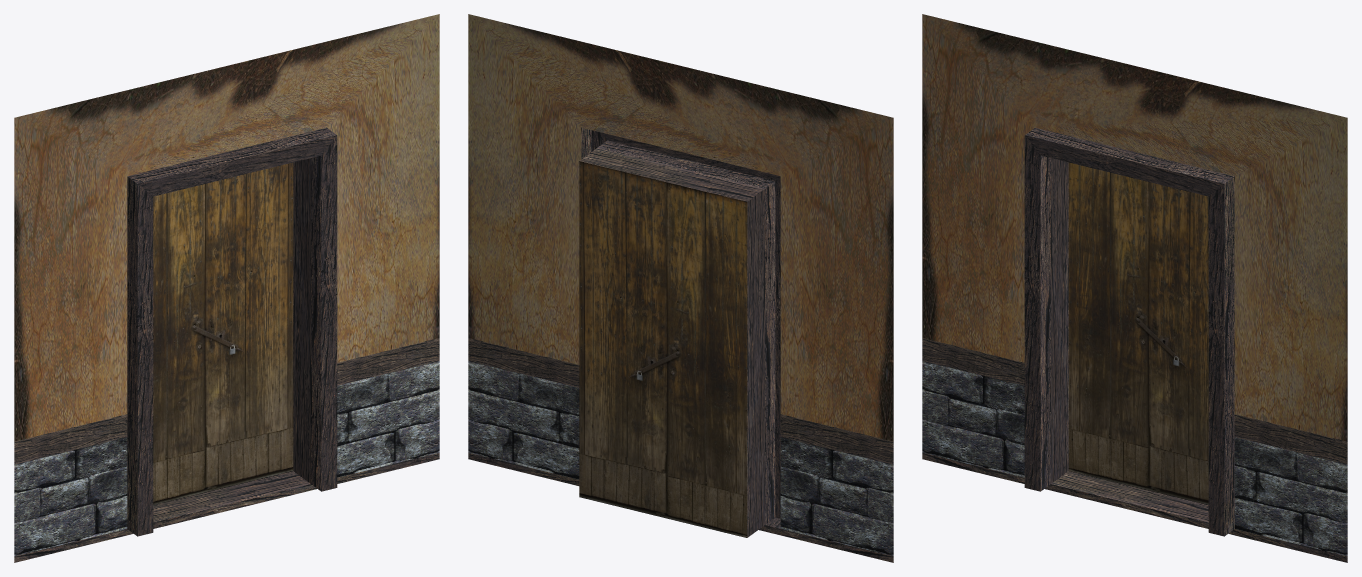
File: House 1 Wall Door.FBX
3 renders of one model, left to right at view 1: azimuth 30°, elevation 25°; view 2: azimuth 150°, elevation 25°; view 3: azimuth 330°, elevation 25°, orthographic.
Visible parts, largest first — view 1: Plane17; view 2: Plane17; view 3: Plane17.
Boxes of the visible parts, x1,y1,x2,y2 form: Plane17: (14,14,439,562); Plane17: (468,14,893,562); Plane17: (922,14,1347,562).
Size of the model in its own units: 236 by 236 by 27.1.
Materials: 4 (4 with a texture image).
